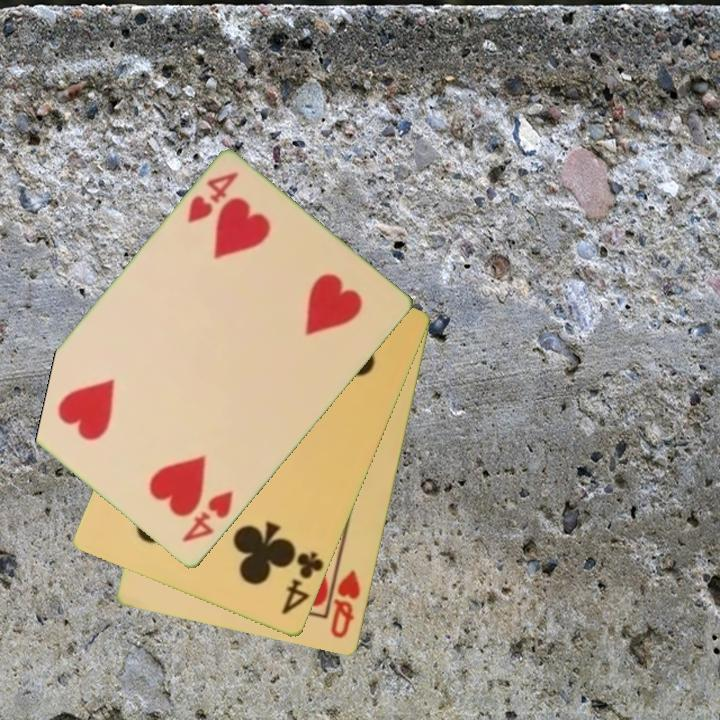4c: (278, 549, 327, 618)
4h: (178, 487, 237, 547), (184, 168, 242, 227)
Qh: (327, 567, 364, 642)
